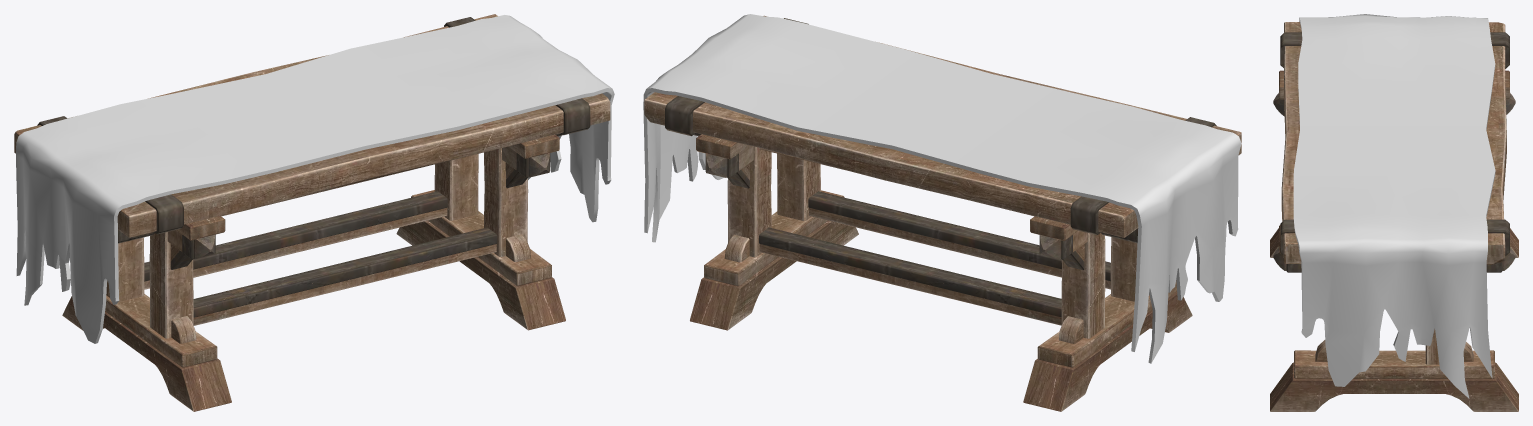
The picture shows the model from 3 angles, left to right: view 1: azimuth 30°, elevation 25°; view 2: azimuth 150°, elevation 25°; view 3: azimuth 270°, elevation 25°; orthographic projection. The views are drawn at different scales.
Parts seen in each view (by area): view 1: SM_DR_Table_A_02_01_LOD0; view 2: SM_DR_Table_A_02_01_LOD0; view 3: SM_DR_Table_A_02_01_LOD0.
Part boxes in pixels (x1,y1,x2,y2): SM_DR_Table_A_02_01_LOD0: (14,14,614,411); SM_DR_Table_A_02_01_LOD0: (643,14,1241,411); SM_DR_Table_A_02_01_LOD0: (1270,14,1518,411).
Bounding box in the file's own units: 2.93 × 1.17 × 1.3.
Materials: 4 (3 with a texture image).
